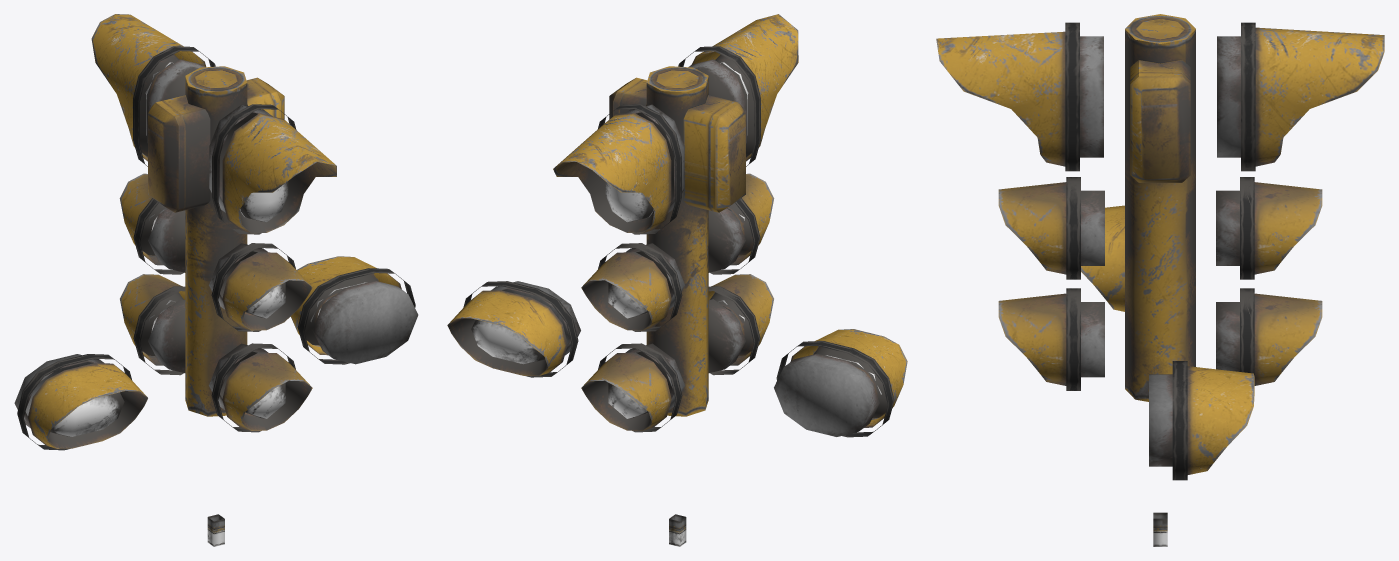
The model's file is Signal_Light_A_Body.FBX.
The picture shows the model from 3 angles, left to right: view 1: azimuth 30°, elevation 25°; view 2: azimuth 150°, elevation 25°; view 3: azimuth 270°, elevation 25°; orthographic projection. The views are drawn at different scales.
Parts seen in each view (by area): view 1: Geometry_Signal_Light_A_Body_LOD02; view 2: Geometry_Signal_Light_A_Body_LOD02; view 3: Geometry_Signal_Light_A_Body_LOD02.
Part boxes in pixels (bbox=[...]): Geometry_Signal_Light_A_Body_LOD02: bbox=[14, 14, 418, 546]; Geometry_Signal_Light_A_Body_LOD02: bbox=[447, 14, 907, 546]; Geometry_Signal_Light_A_Body_LOD02: bbox=[936, 14, 1384, 546].
Size of the model in its own units: 1785 by 1525 by 1938.
